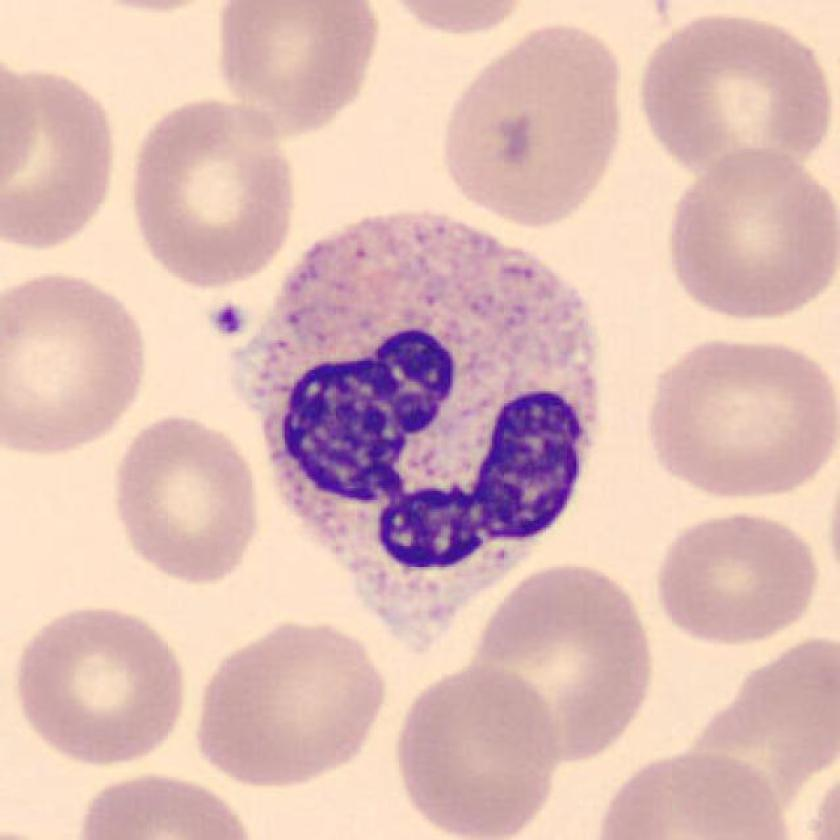neutrophil: (231, 211, 589, 660)
